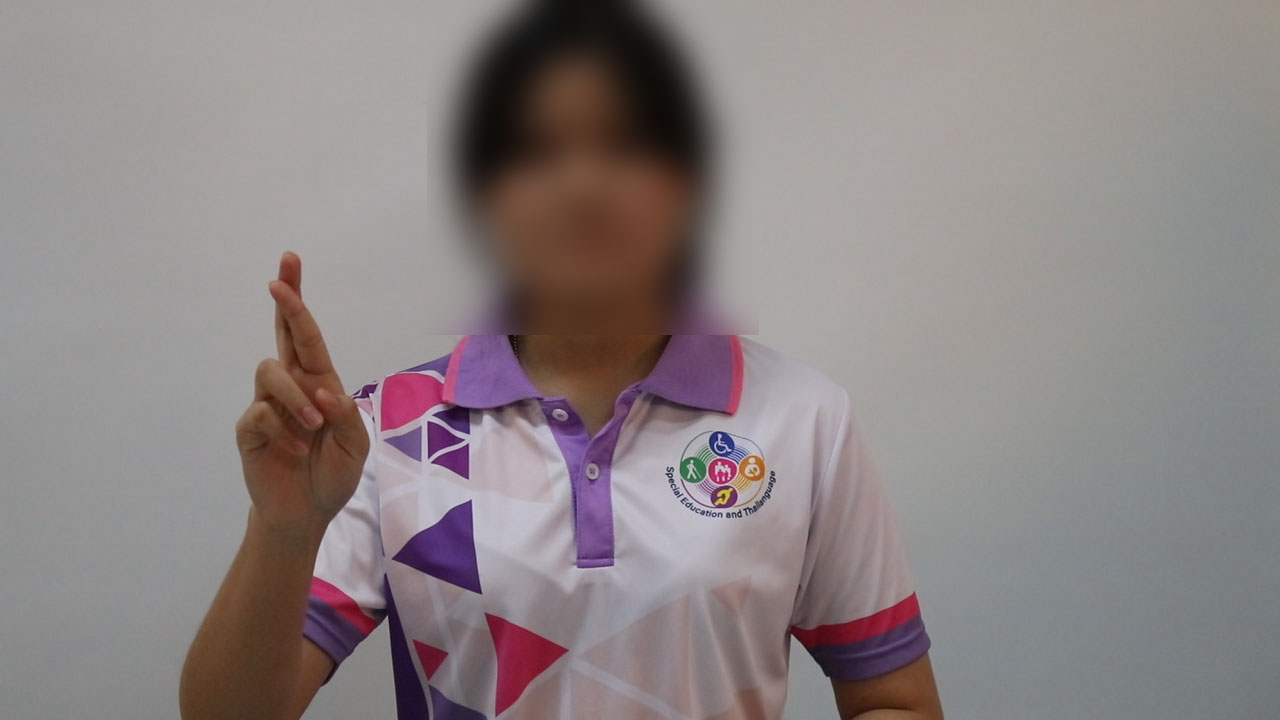rao: (211, 244, 376, 537)
